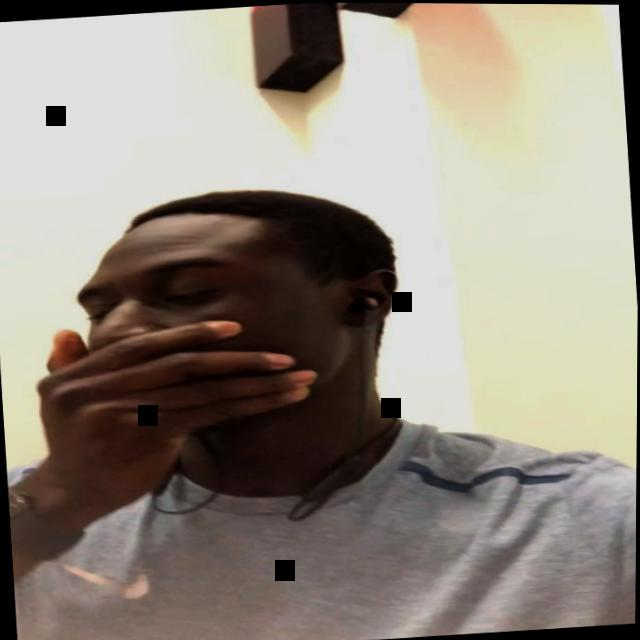NO-Mask: (72, 213, 377, 445)
